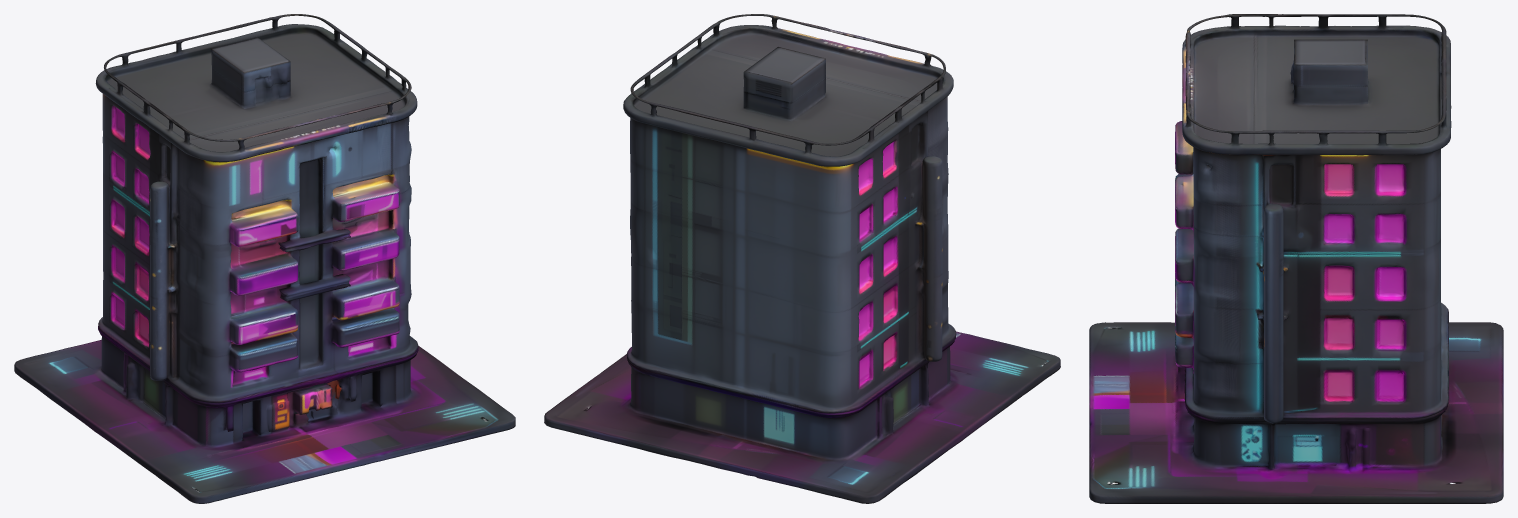
Rendered from base_basic_pbr.fbx.
3 views of the same model, side by side, from view 1: azimuth 30°, elevation 25°; view 2: azimuth 150°, elevation 25°; view 3: azimuth 270°, elevation 25° (orthographic). The views are drawn at different scales.
Parts seen in each view (by area): view 1: model; view 2: model; view 3: model.
Part boxes in pixels (x1,y1,x2,y2): model: [14, 14, 515, 503]; model: [544, 14, 1060, 503]; model: [1089, 14, 1503, 503].
Size of the model in its own units: 176 by 172 by 177.
Materials: 1 (1 with a texture image).
